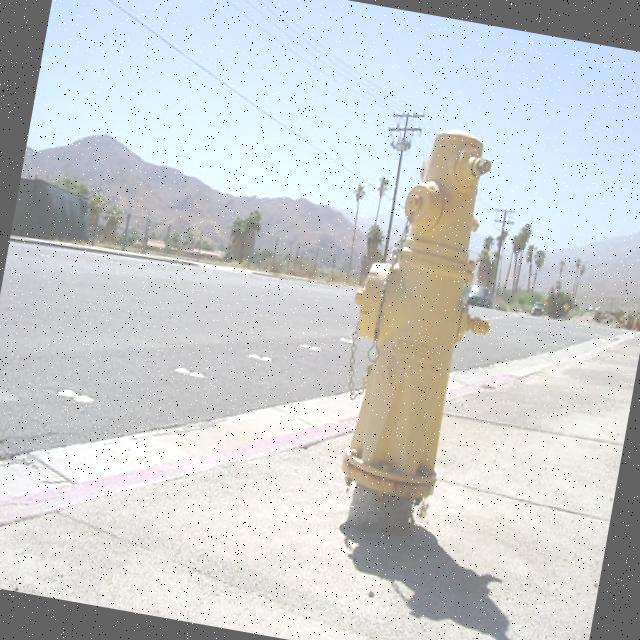fire_hydrant: (317, 113, 525, 510)
